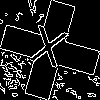X: (25, 25, 70, 78)
